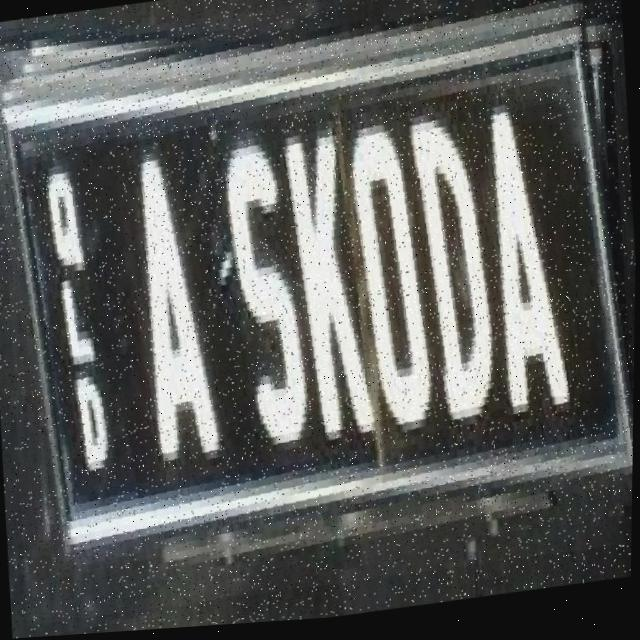LicensePlate: (0, 0, 640, 627)
